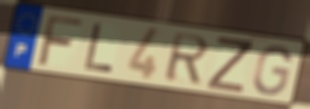4: (125, 25, 161, 84)
F: (35, 13, 86, 69)
G: (251, 43, 294, 98)
L: (82, 22, 116, 75)
R: (163, 32, 212, 86)
Z: (205, 34, 255, 95)
